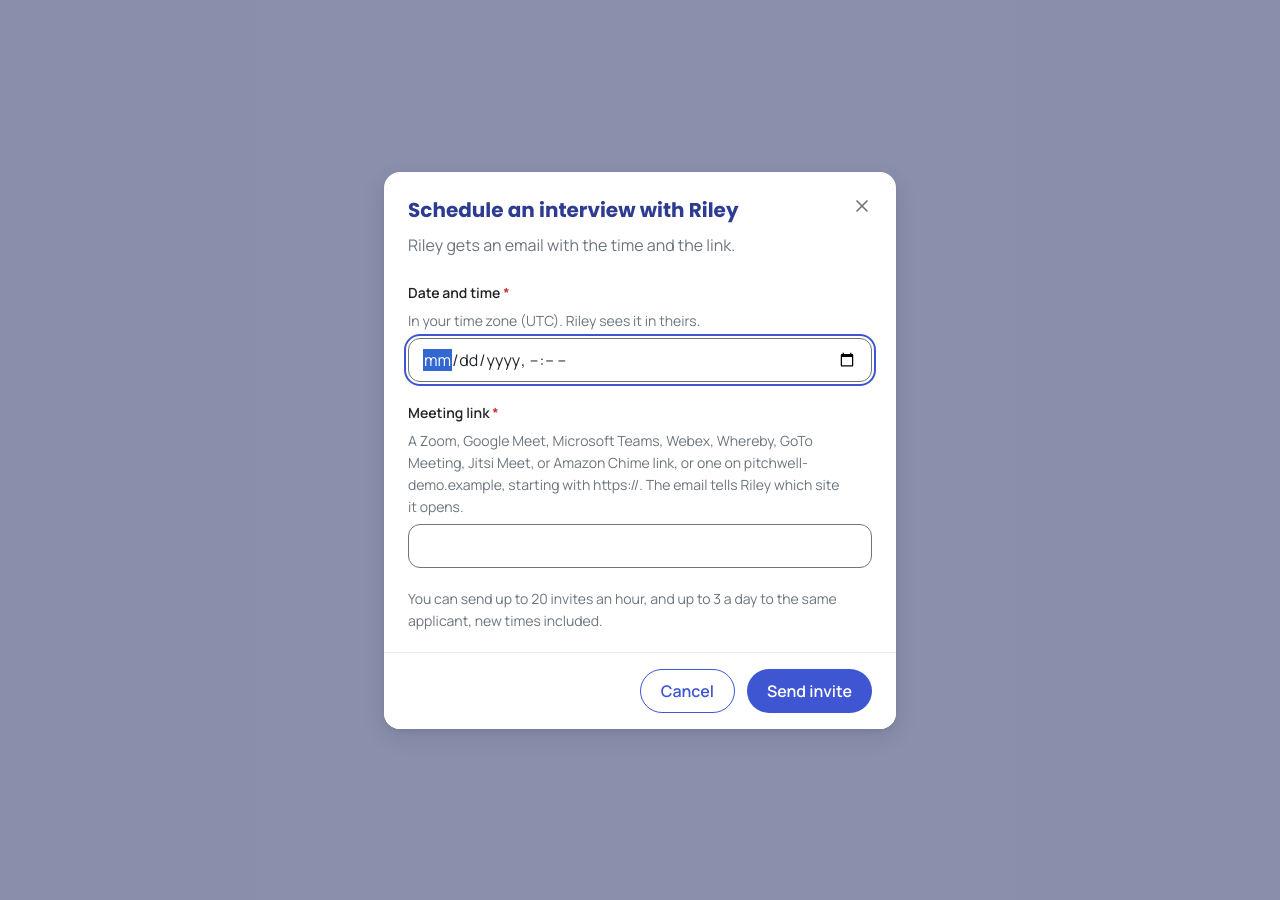
InterviewDialog › asks for a time and an https meeting link
Type "http://meet.example.test/riley" into the field labelled "Meeting link *" at (640, 546), box [408,524,872,568]
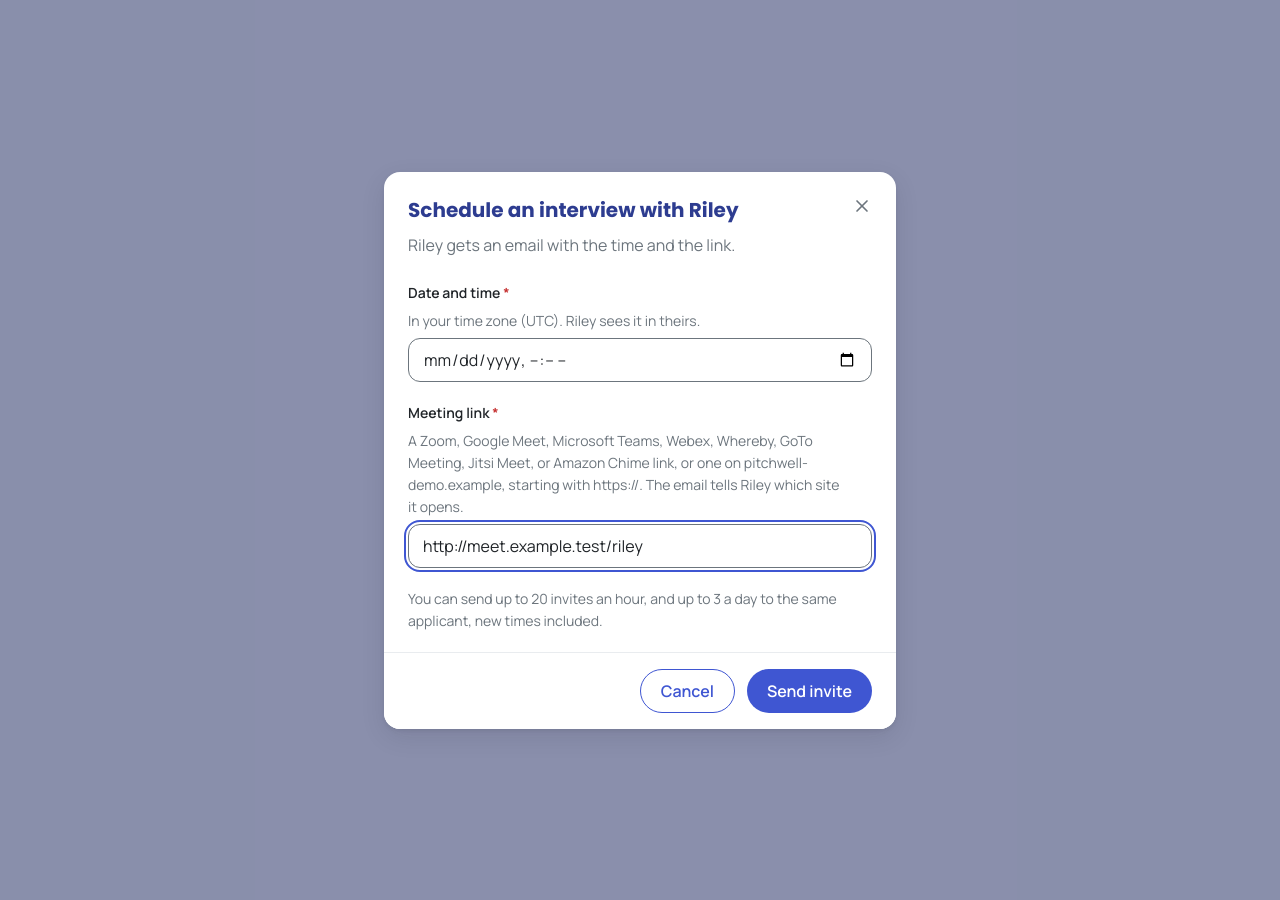
Click the button "Send invite" at (809, 690), box [747,668,872,712]
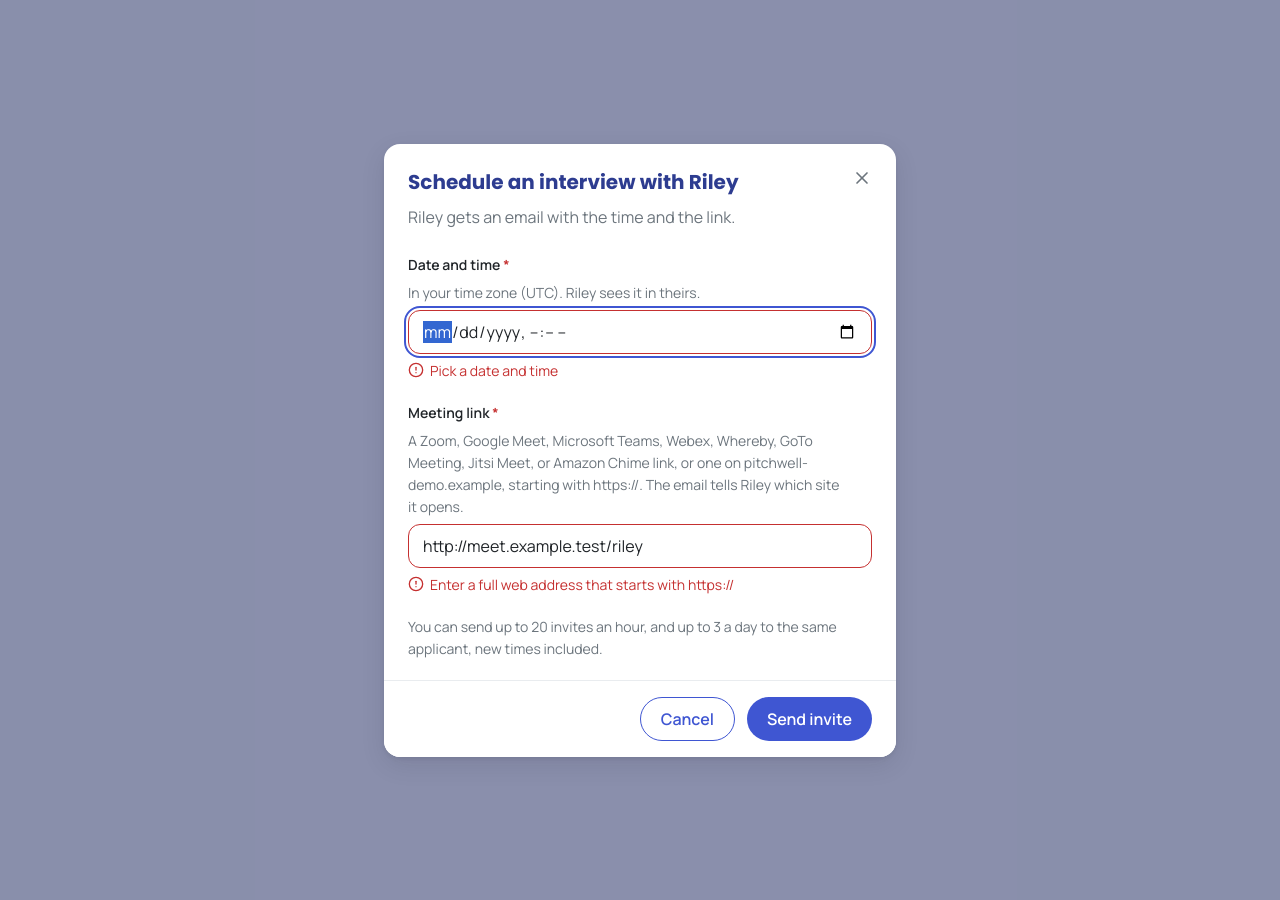
Check: the text "Pick a date and time" is shown, box [430,360,558,382]
